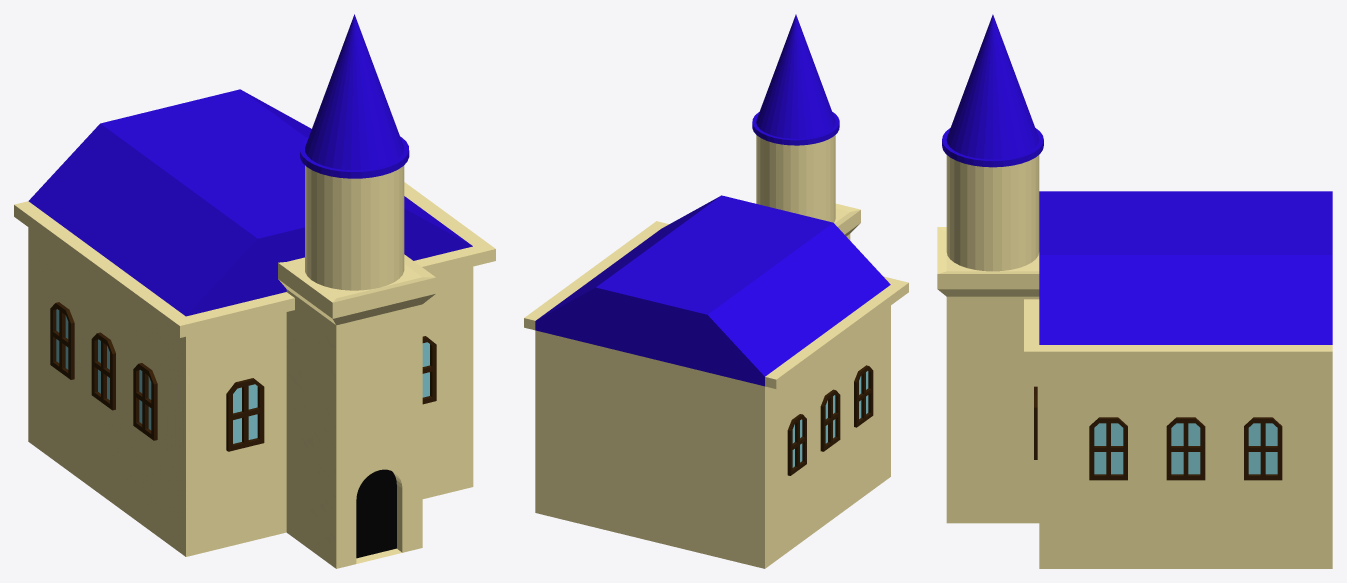
File: Church.fbx
3 views of the same model, side by side, from view 1: azimuth 30°, elevation 25°; view 2: azimuth 150°, elevation 25°; view 3: azimuth 270°, elevation 25° (orthographic). The views are drawn at different scales.
Visible parts, largest first — view 1: Cube, Church, Window.004, Window.002, Window.001; view 2: Cube, Church, Window.004; view 3: Cube, Church, Window.003.
Boxes of the visible parts, x1,y1,x2,y2 form: Cube: [14, 89, 495, 556]; Church: [278, 14, 435, 568]; Window.004: [50, 302, 157, 440]; Window.002: [226, 378, 264, 451]; Window.001: [422, 336, 436, 404]; Cube: [524, 195, 908, 568]; Church: [752, 14, 860, 240]; Window.004: [787, 365, 873, 475]; Cube: [1024, 191, 1332, 568]; Church: [937, 14, 1043, 523]; Window.003: [1089, 417, 1282, 480].
Size of the model in its own units: 154 by 245 by 179.
